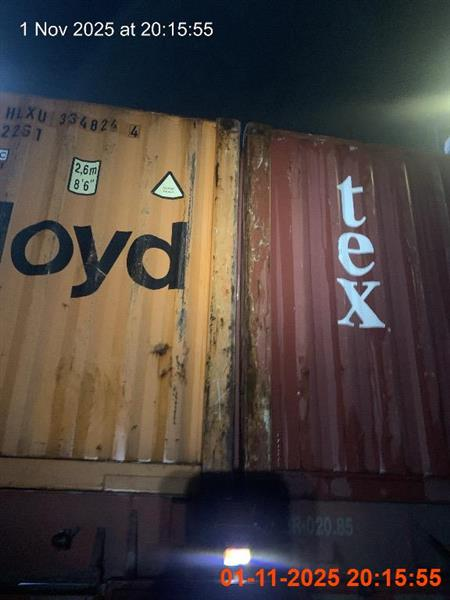broken: (1, 94, 449, 597), (2, 94, 449, 596)
